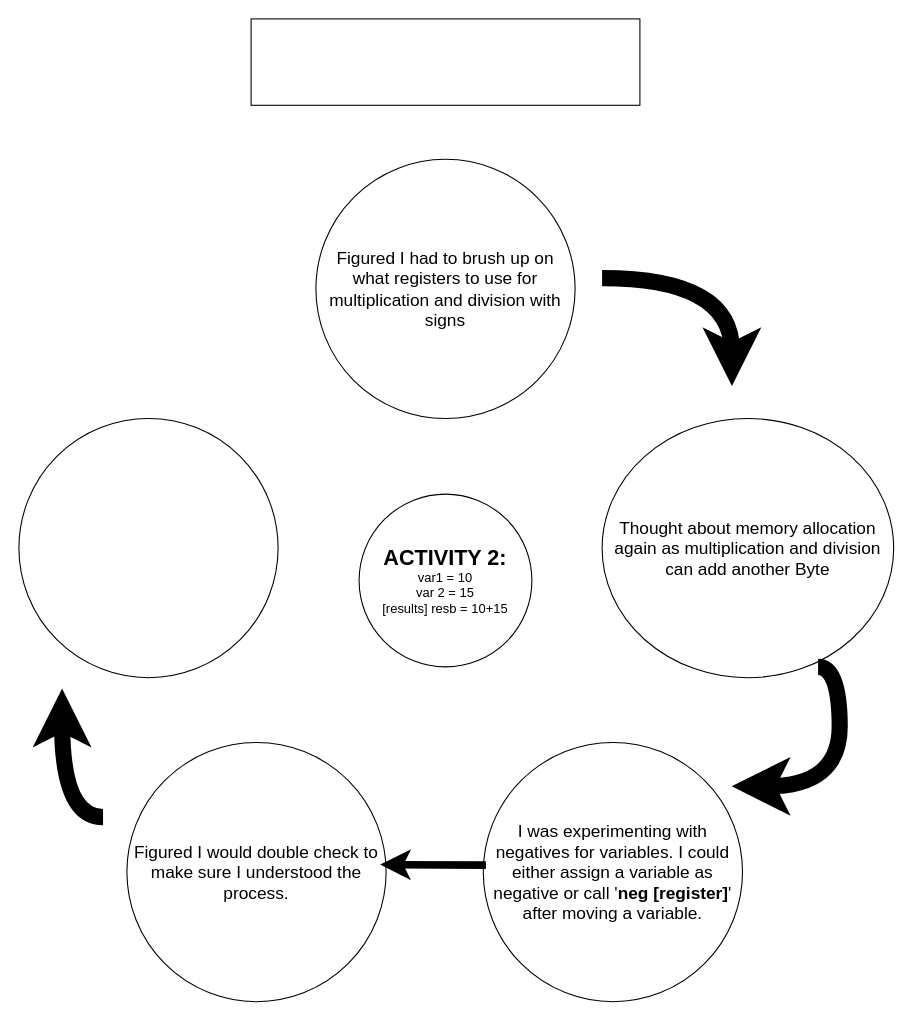
Image size: 913x1021. Some labels were removed from this diagram. The box of each missing label's shape, as (x1, y1, x2, y2) in pixels:
Executed: (18, 417, 278, 678)
Thought Process for Activity - Arithmetic Instructions: (250, 18, 640, 105)
